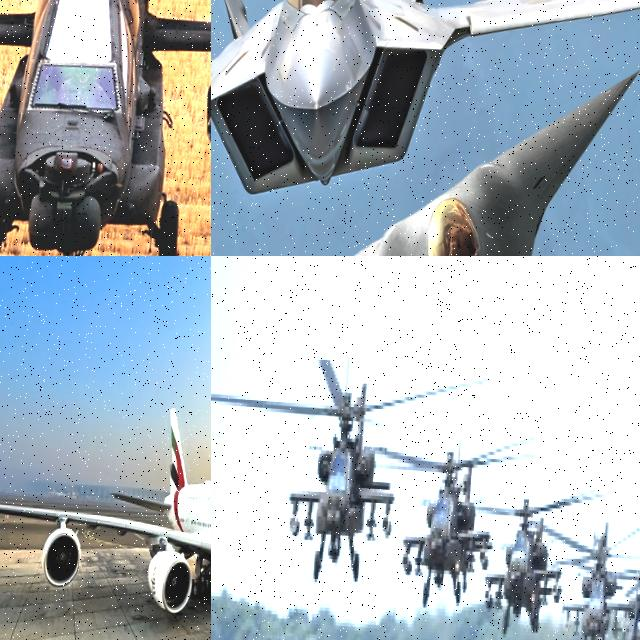A380: (0, 392, 211, 640)
Apache: (211, 340, 486, 589), (0, 0, 211, 256), (364, 419, 532, 617), (475, 475, 592, 640), (543, 493, 640, 640)
F22: (211, 0, 640, 213)
